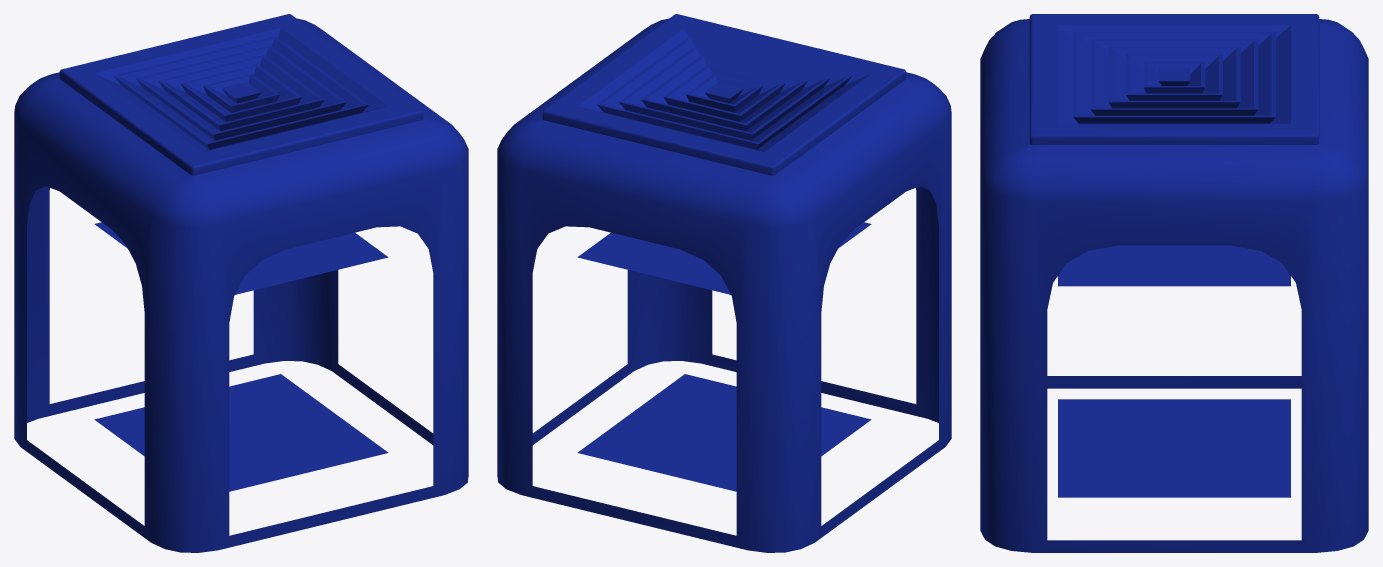
Rendered from Injector.fbx.
3 views of the same model, side by side, from view 1: azimuth 30°, elevation 25°; view 2: azimuth 150°, elevation 25°; view 3: azimuth 270°, elevation 25° (orthographic). The views are drawn at different scales.
Parts seen in each view (by area): view 1: Ingector; view 2: Ingector; view 3: Ingector.
Part boxes in pixels (x1,y1,x2,y2): Ingector: (14,14,468,552); Ingector: (497,14,951,552); Ingector: (980,14,1368,552).
Bounding box in the file's own units: 1.1 × 1.1 × 1.24.
